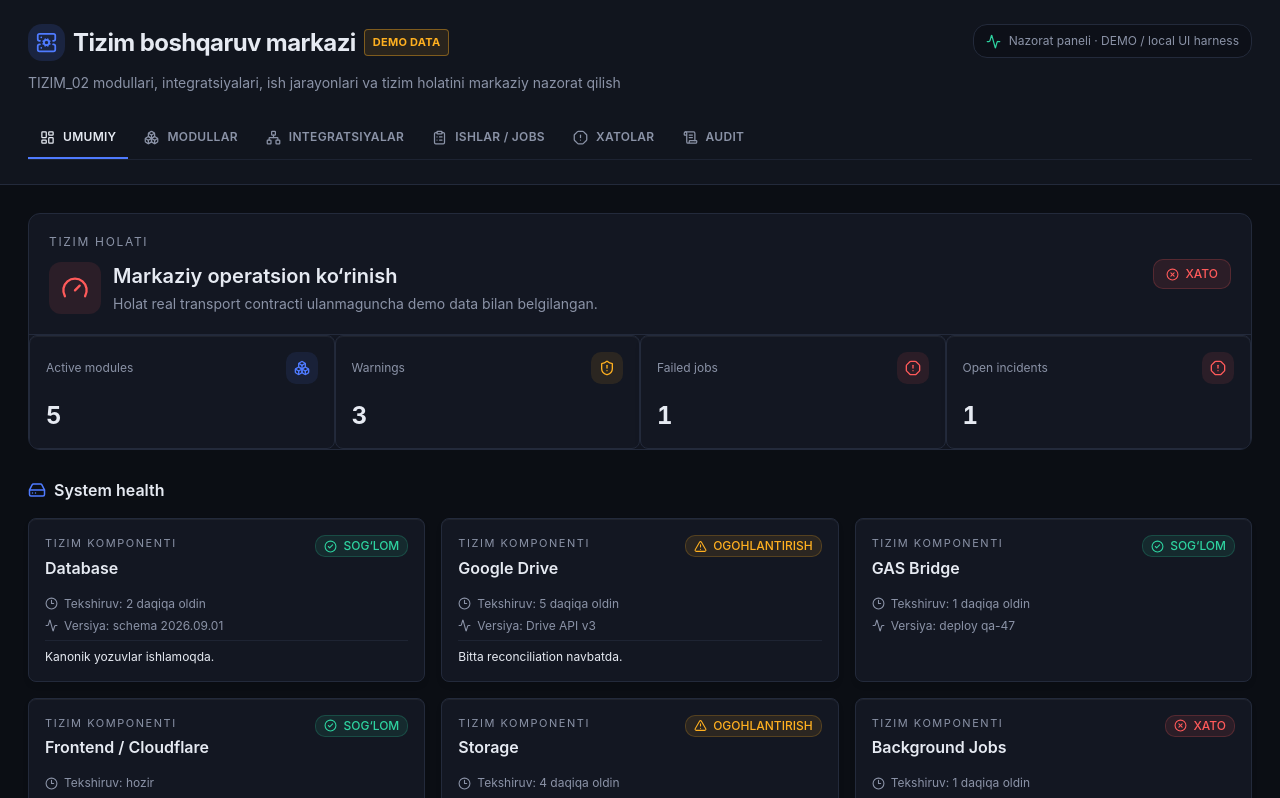
Test: System Control Center visible product shell › expands audit old and new values
Click the button "AUDIT" at (713, 138), box [670,117,756,159]
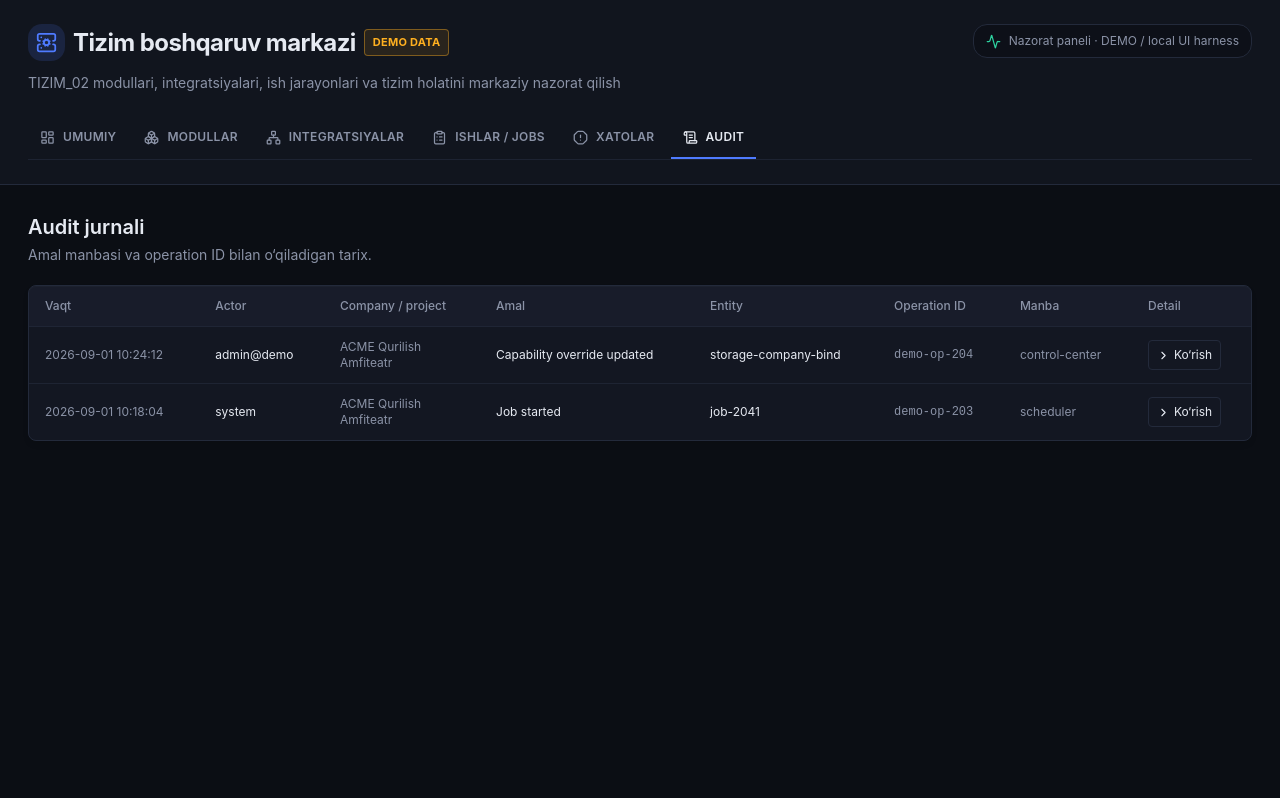
Click the button "Ko‘rish" in the row of "2026-09-01 10:24:12" at (1185, 355), box [1148,340,1221,370]
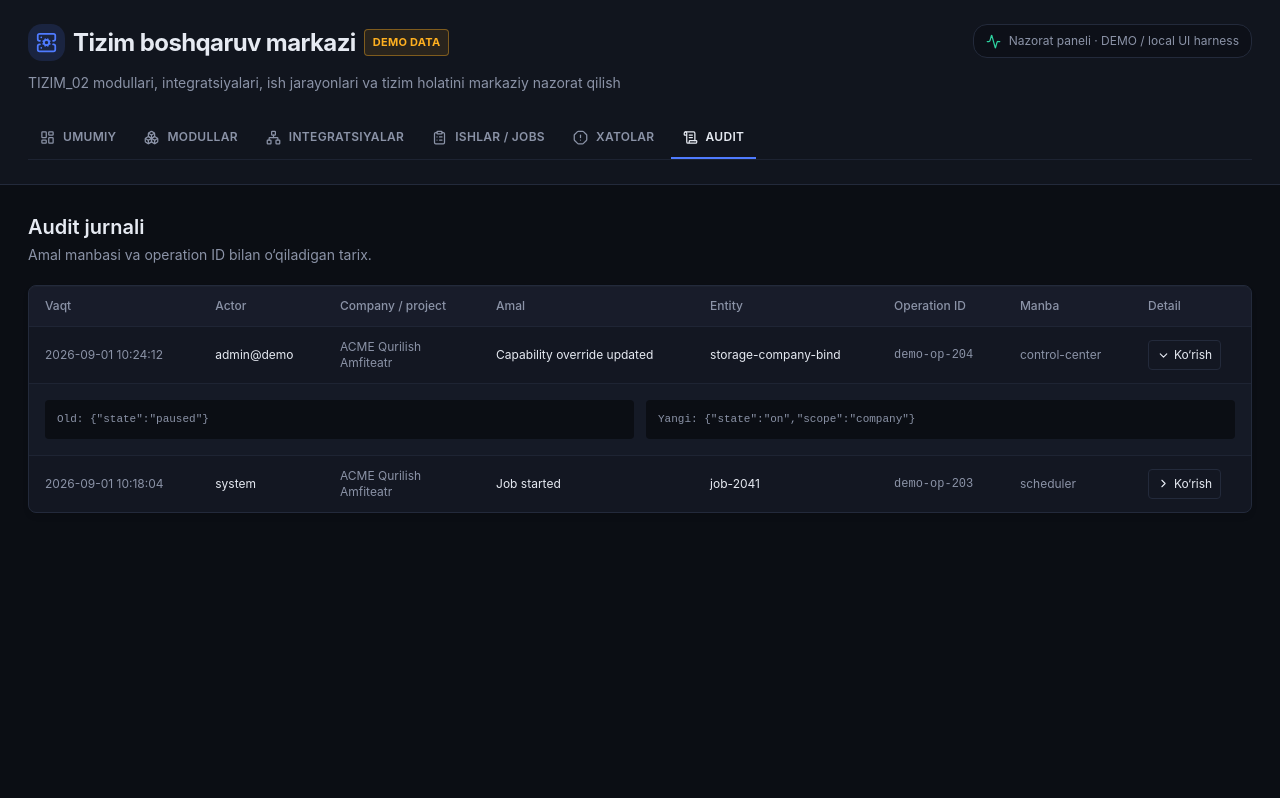
Check: the text "Old: {\"state\":\"paused\"}" is shown, box [45,400,634,439]
Check: the text "Yangi: {\"state\":\"on\",\"scope\":\"company\"}" is shown, box [646,400,1235,439]
